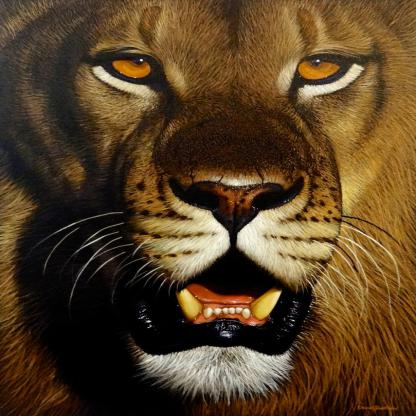lion: (9, 0, 395, 406)
